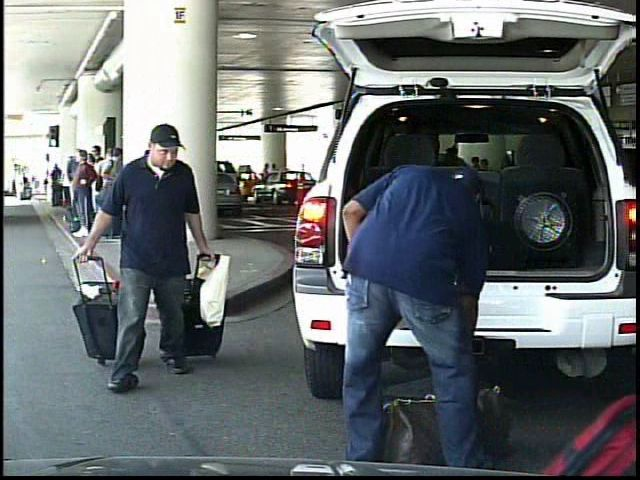person: (315, 131, 501, 476), (77, 116, 223, 402), (261, 163, 272, 198), (14, 170, 25, 201)
